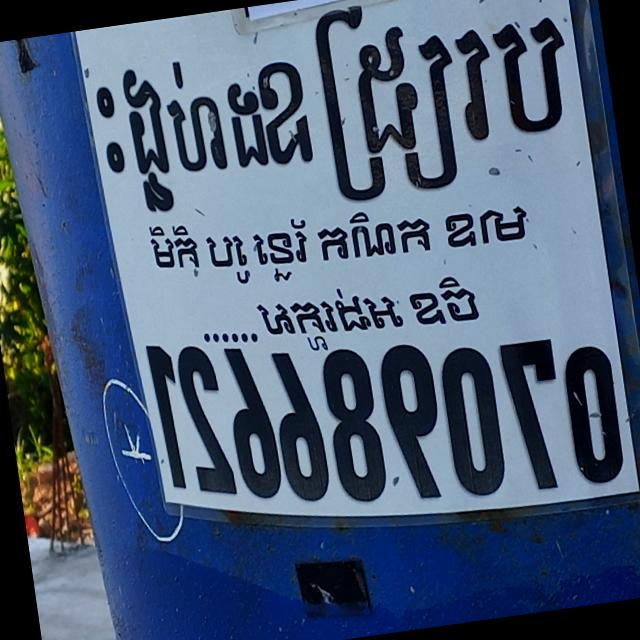1: (255, 265, 486, 353)
377: (140, 326, 629, 517)
4: (147, 190, 532, 285)
Yolov11kh: (88, 0, 576, 212)
